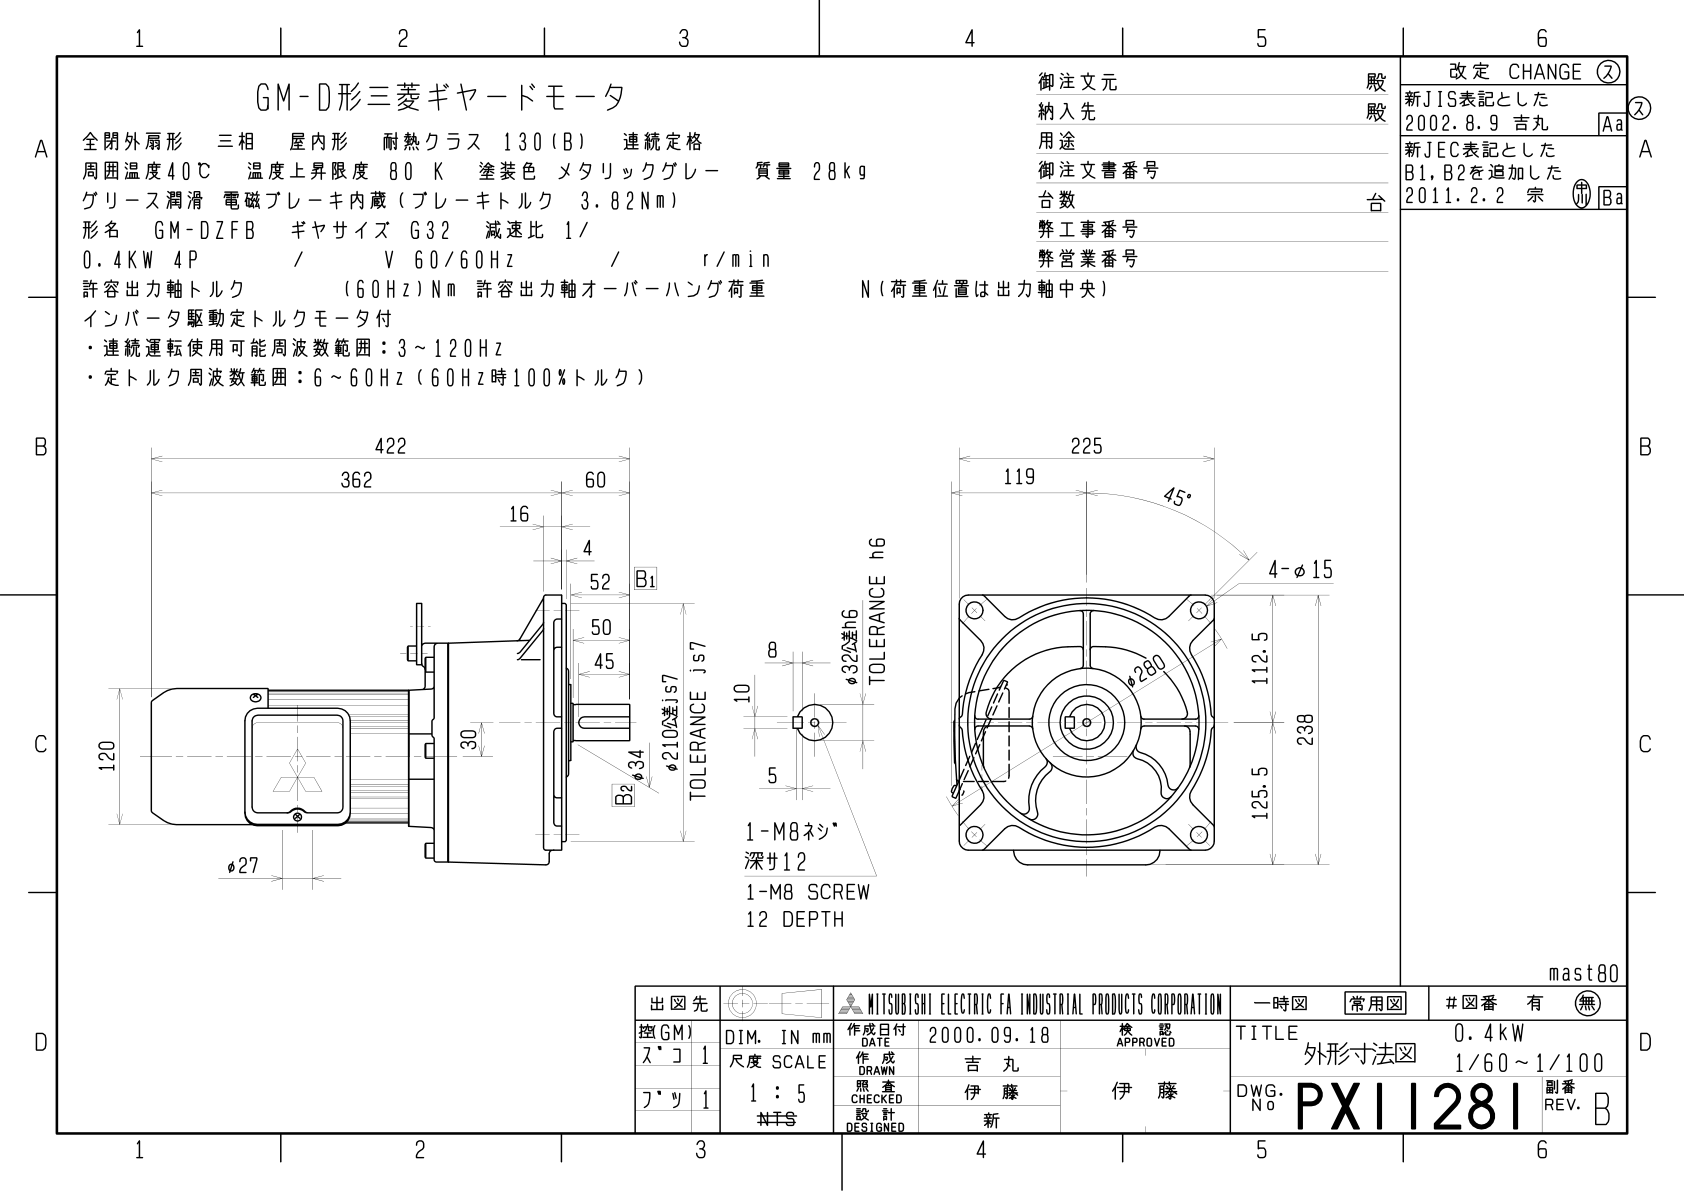GM_D_インバータ屋内_三相_フランジ: (4, 1, 1660, 1191)
